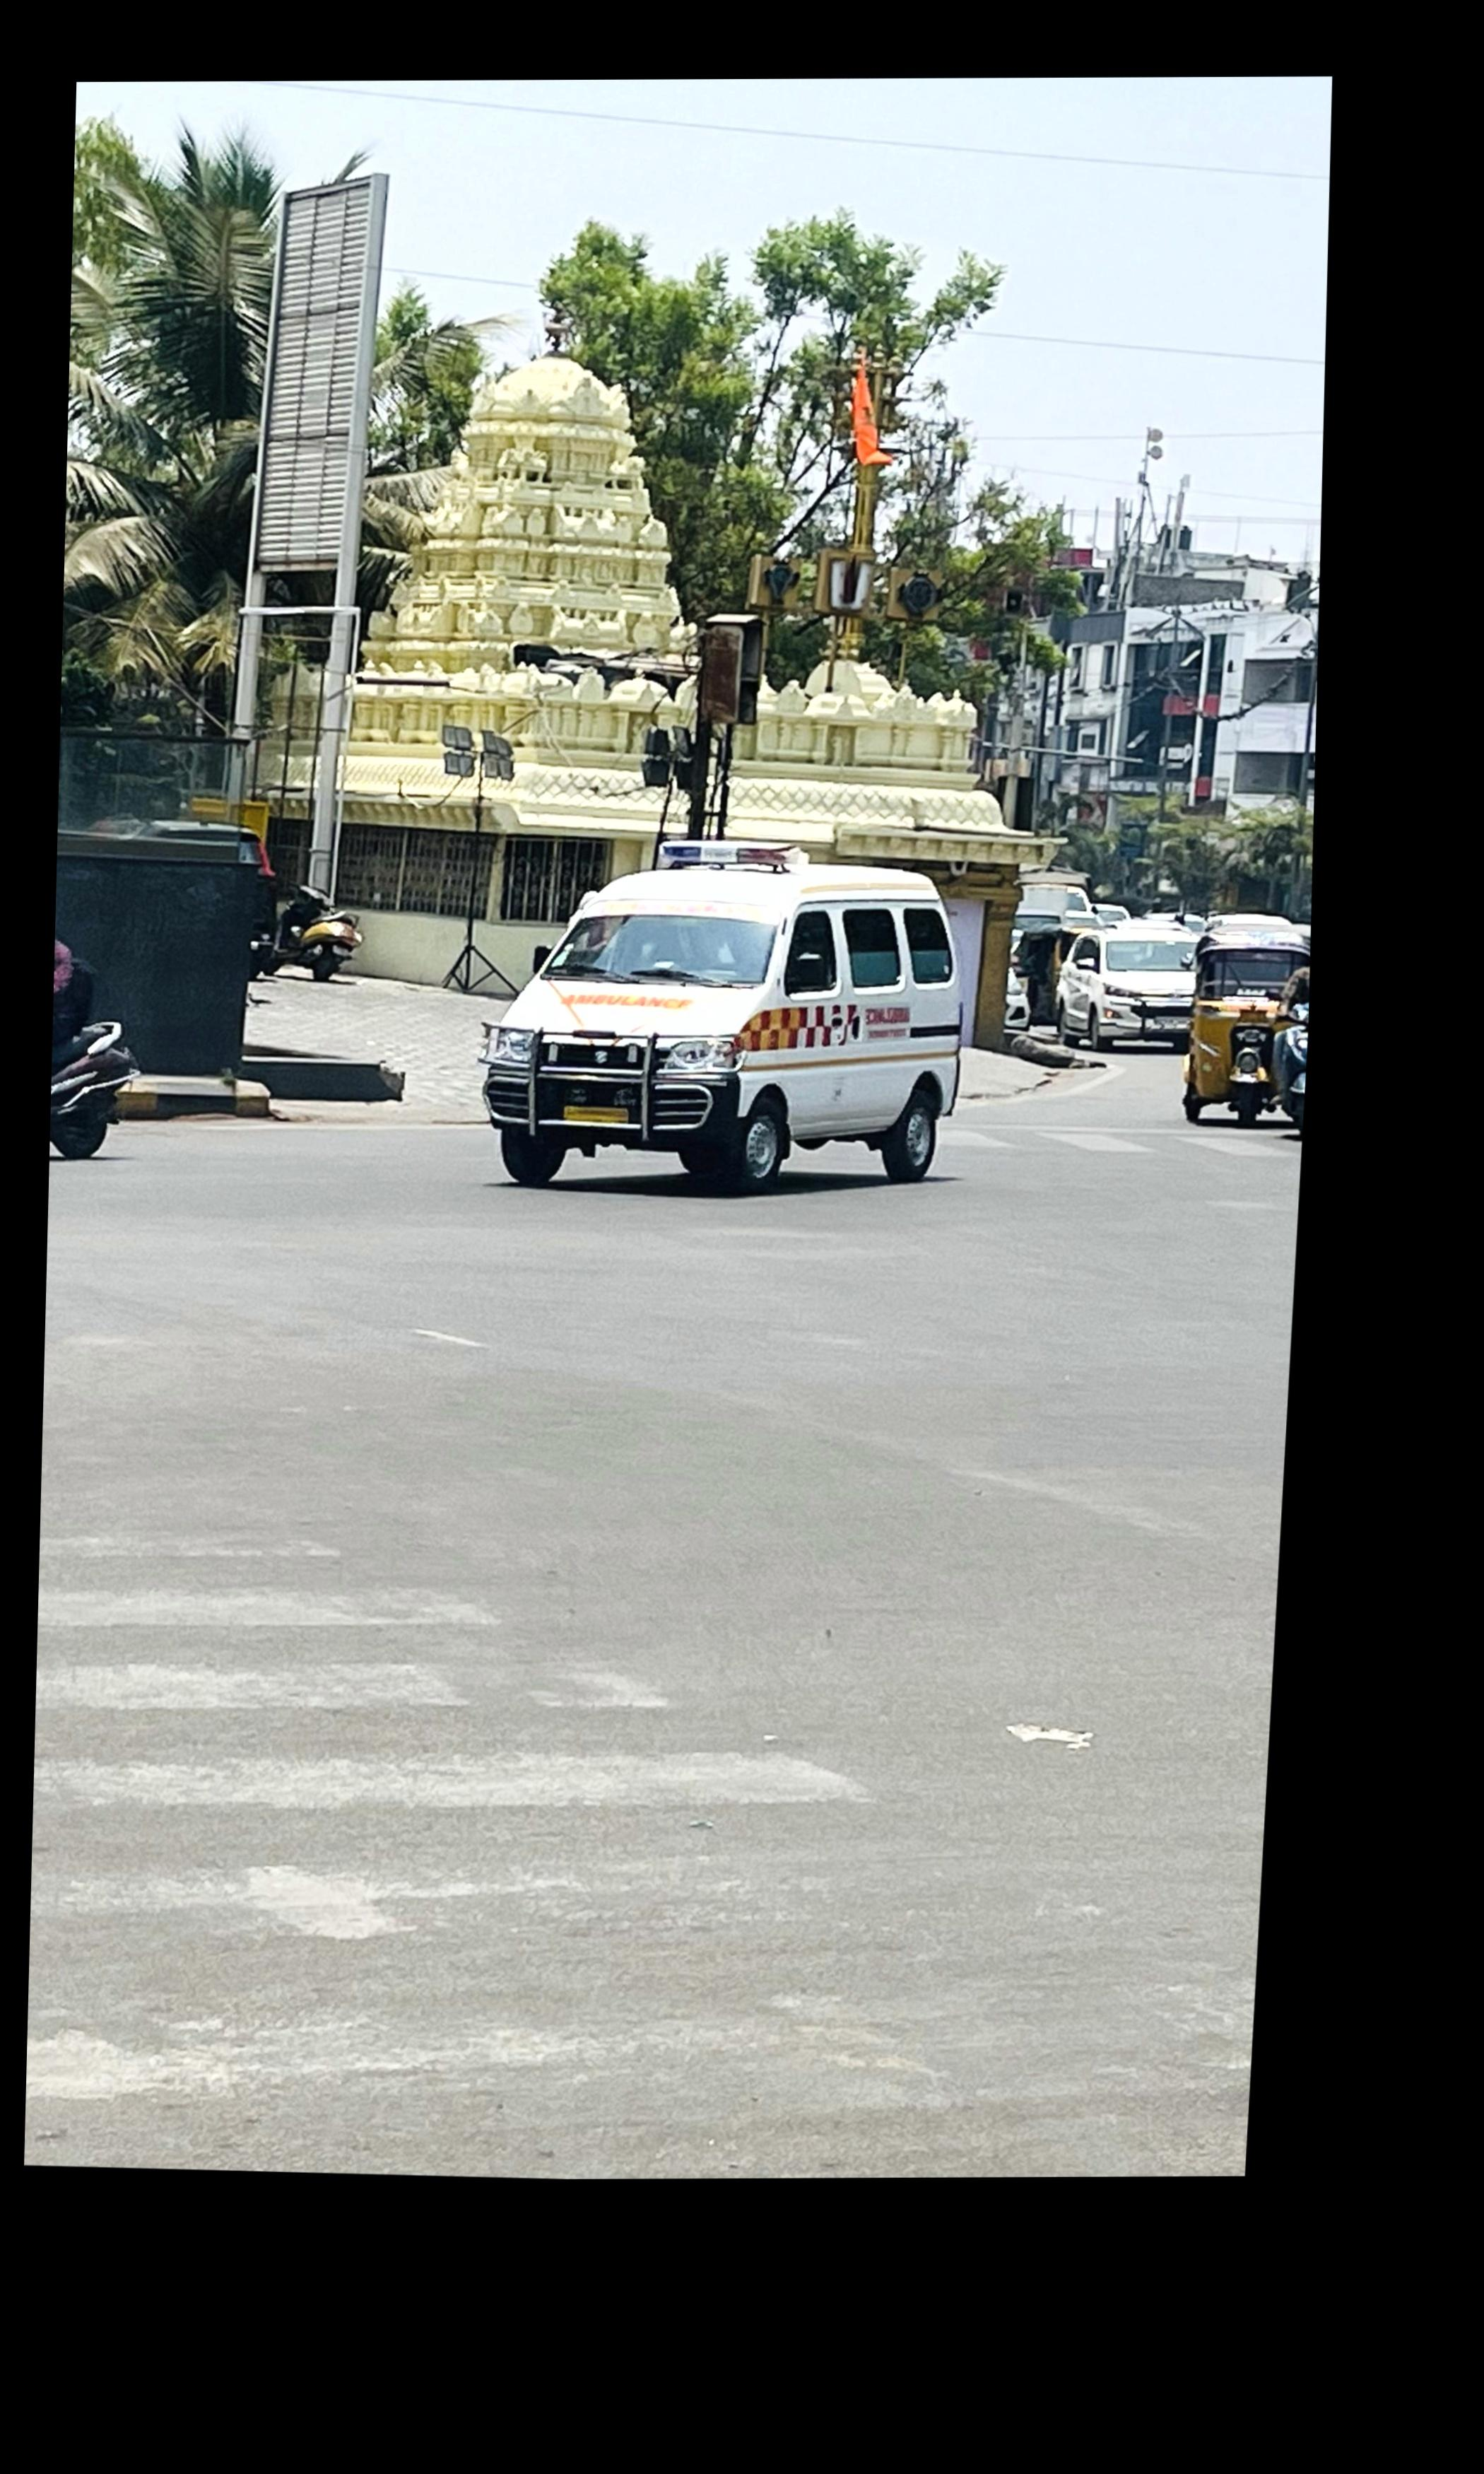ambulance: (481, 868, 979, 1191)
